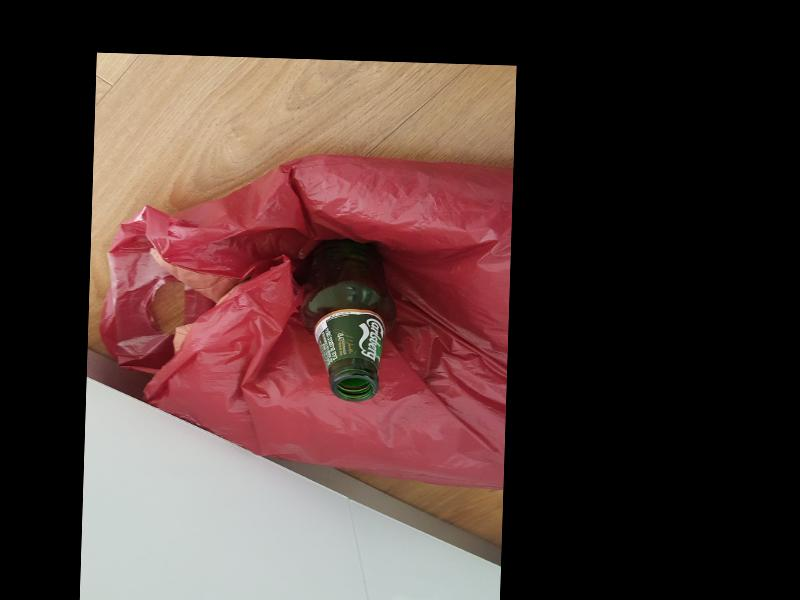Beer: (298, 236, 397, 400)
